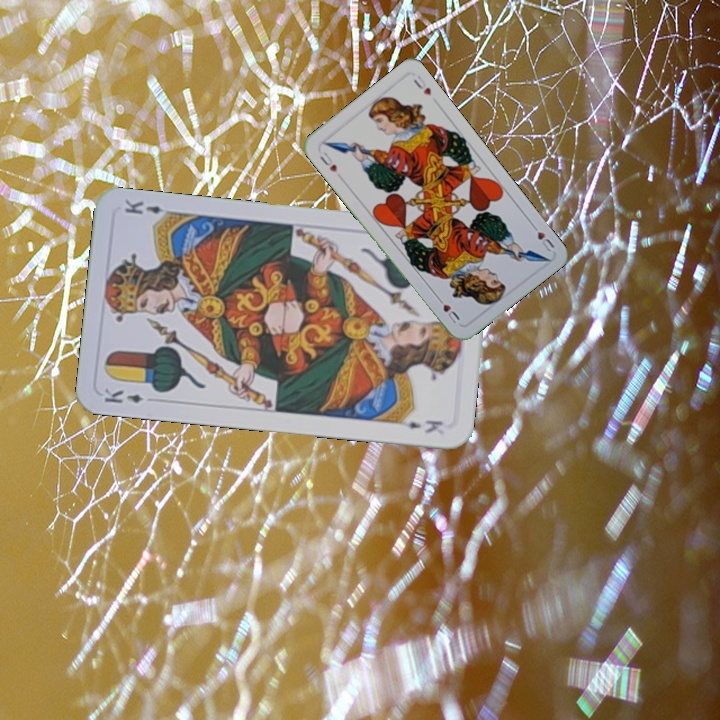EK: (100, 385, 146, 406)
HU: (527, 219, 557, 254), (316, 148, 340, 175)
